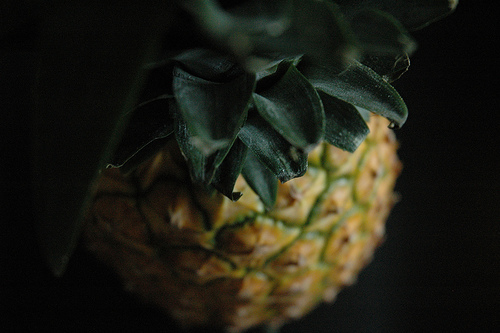pineapple: (77, 0, 418, 331)
